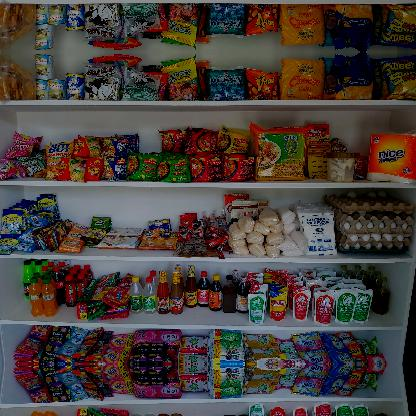Lady-s-Choice: (326, 152, 360, 182)
